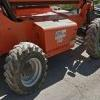Tractor: (5, 7, 100, 90)
